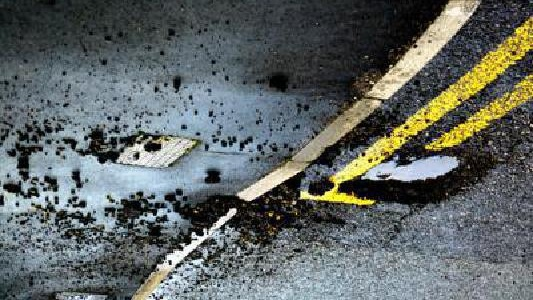pothole: (336, 146, 495, 207)
